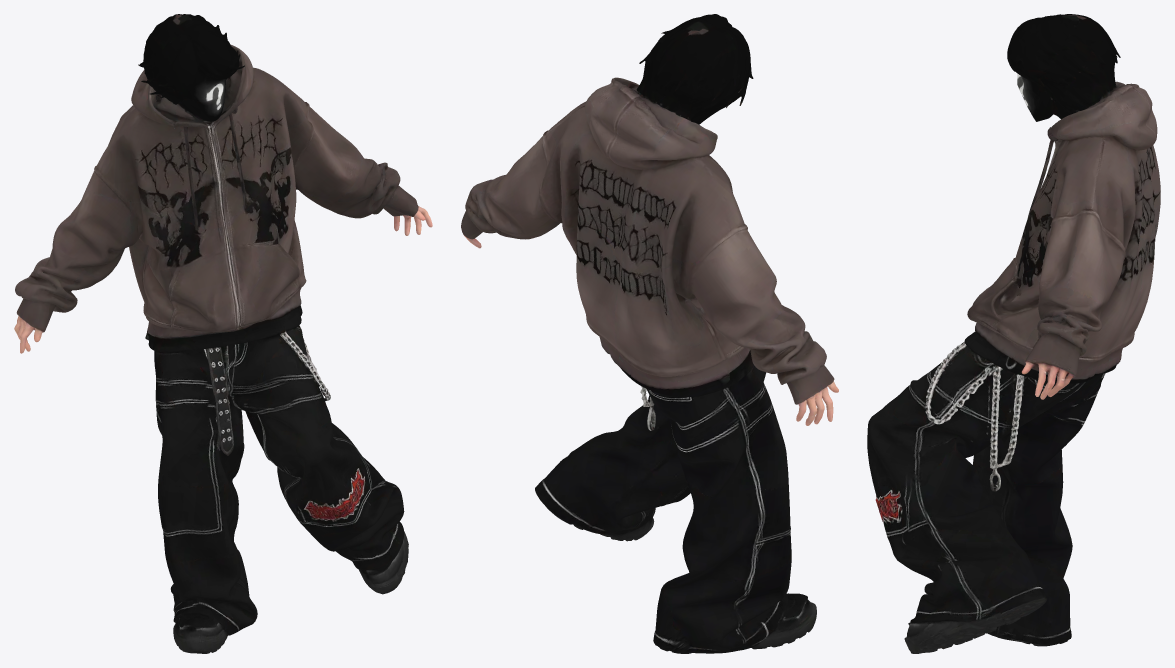
File: chamarra_Gothica_modelo_3D.glb
3 renders of one model, left to right at view 1: azimuth 30°, elevation 25°; view 2: azimuth 150°, elevation 25°; view 3: azimuth 270°, elevation 25°, orthographic. The views are drawn at different scales.
Parts seen in each view (by area): view 1: mesh_node; view 2: mesh_node; view 3: mesh_node.
Part boxes in pixels (<box>): mesh_node: <box>14,14,432,653</box>; mesh_node: <box>461,14,838,653</box>; mesh_node: <box>867,14,1160,653</box>.
Bounding box in the file's own units: 1.27 × 1.9 × 0.8272.
Materials: 1 (1 with a texture image).
